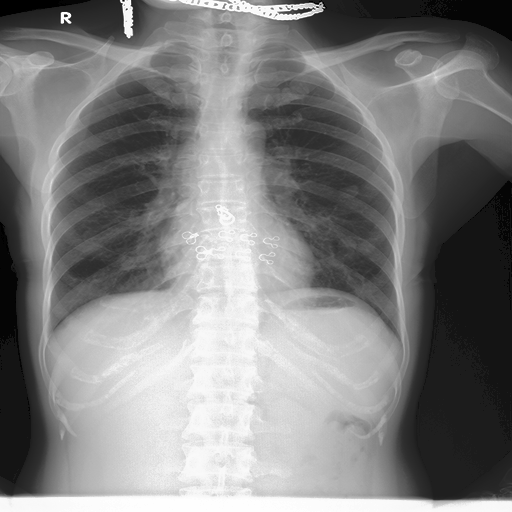Consolidation: (225, 117, 265, 170)
Pulmonary fibrosis: (333, 236, 361, 259), (339, 185, 360, 199)
